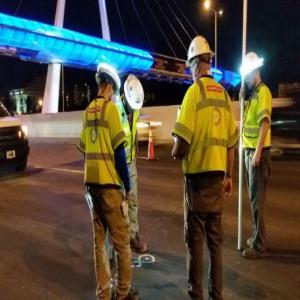white: (187, 36, 213, 82), (96, 62, 121, 102), (243, 51, 263, 92), (125, 77, 145, 116)
